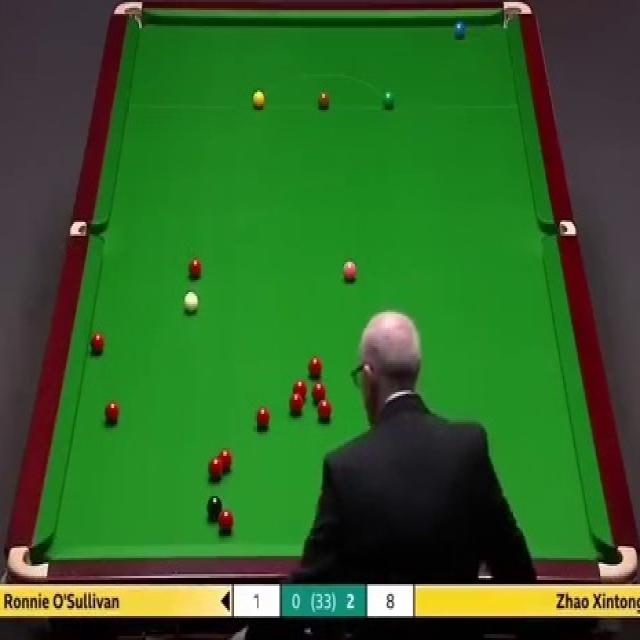black-ball: (206, 496, 222, 519)
blue-ball: (454, 20, 466, 42)
brown-ball: (317, 90, 330, 109)
green-ball: (381, 90, 394, 109)
pink-ball: (342, 262, 358, 284)
red-ball: (317, 396, 333, 424), (208, 458, 226, 482), (105, 398, 121, 424), (306, 356, 324, 378), (90, 333, 105, 358), (218, 508, 234, 531), (255, 404, 269, 428), (217, 449, 233, 470), (290, 394, 305, 415), (292, 378, 307, 399), (312, 381, 326, 403), (188, 260, 202, 278)
white-ball: (184, 292, 198, 314)
yellow-ball: (252, 90, 265, 109)
